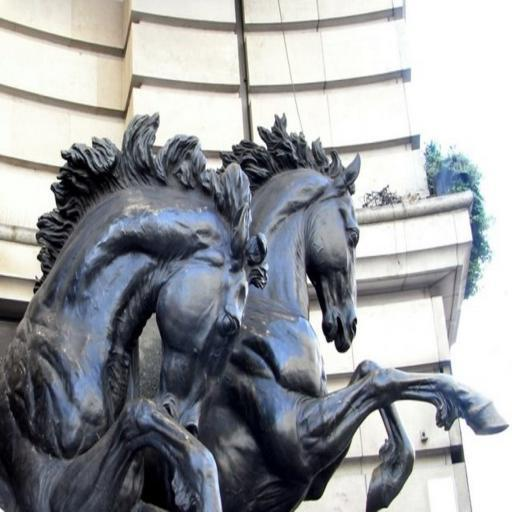Horse: (135, 110, 510, 510), (2, 107, 269, 511)
